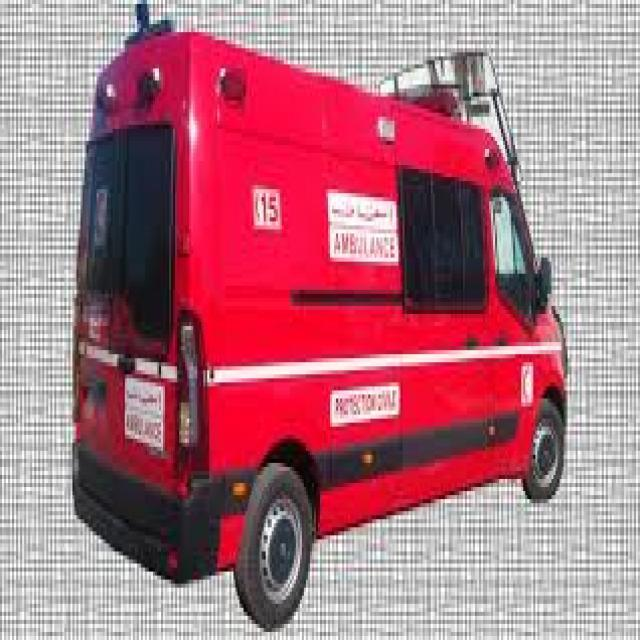ambulance: (62, 39, 570, 628)
